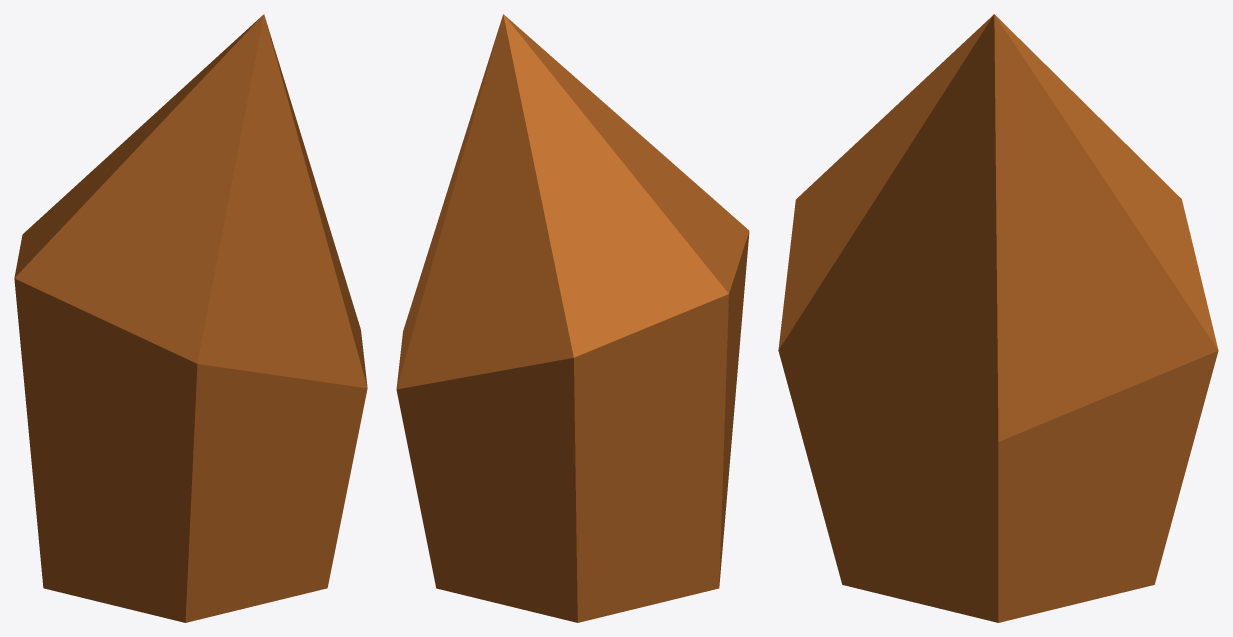
Rendered from Torchfire.fbx.
3 renders of one model, left to right at view 1: azimuth 30°, elevation 25°; view 2: azimuth 150°, elevation 25°; view 3: azimuth 270°, elevation 25°, orthographic. The views are drawn at different scales.
Visible parts, largest first — view 1: Torch; view 2: Torch; view 3: Torch.
Boxes of the visible parts, left/top/right/bottom form: Torch: left=14, top=14, right=367, bottom=622; Torch: left=396, top=14, right=749, bottom=622; Torch: left=778, top=14, right=1218, bottom=622.
Bounding box in the file's own units: 15.57 × 23.06 × 16.02.
